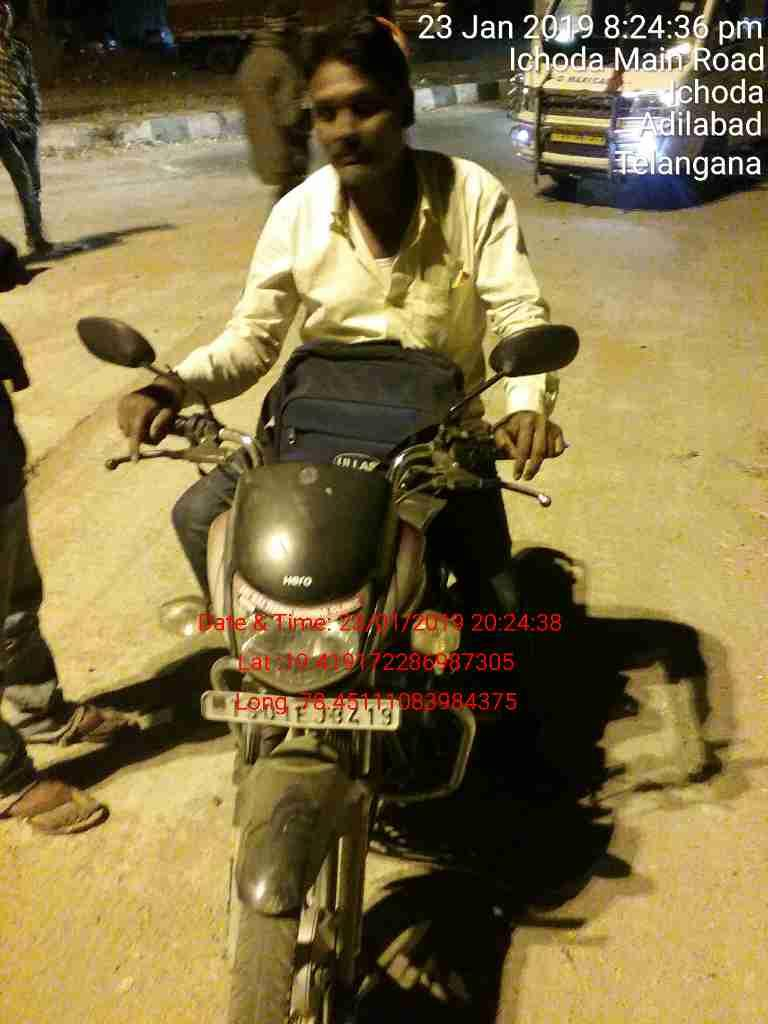without_helmet: (86, 26, 593, 1024)
